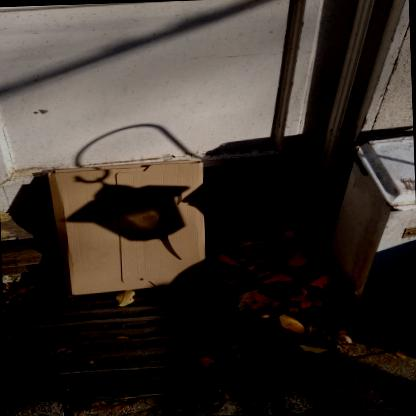box: (40, 157, 207, 298)
